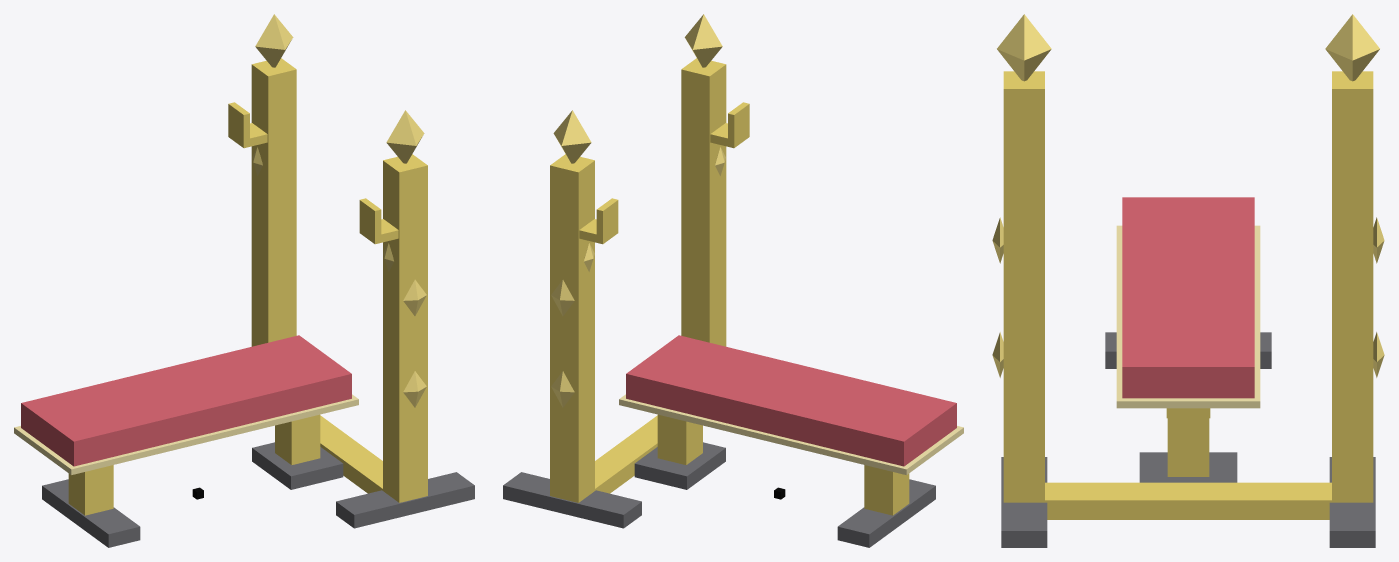
Rendered from Gold_Bench.fbx.
3 views of the same model, side by side, from view 1: azimuth 30°, elevation 25°; view 2: azimuth 150°, elevation 25°; view 3: azimuth 270°, elevation 25° (orthographic). The views are drawn at different scales.
Visible parts, largest first — view 1: Gold_Frame, Gold_Pad, Gold_Feet, Gold_Gems, Gold_Trim; view 2: Gold_Frame, Gold_Pad, Gold_Feet, Gold_Gems, Gold_Trim; view 3: Gold_Frame, Gold_Pad, Gold_Feet, Gold_Gems, Gold_Trim.
Part boxes in pixels (box(x1,y1,x2,y2)): Gold_Frame: box(68, 58, 427, 515); Gold_Pad: box(21, 335, 351, 466); Gold_Feet: box(42, 442, 474, 547); Gold_Gems: box(252, 14, 426, 407); Gold_Trim: box(14, 394, 358, 474); Gold_Frame: box(550, 58, 909, 515); Gold_Pad: box(626, 335, 956, 466); Gold_Feet: box(503, 442, 935, 547); Gold_Gems: box(551, 14, 725, 407); Gold_Trim: box(619, 394, 963, 474); Gold_Frame: box(1003, 71, 1373, 519); Gold_Pad: box(1122, 197, 1254, 398); Gold_Feet: box(1001, 332, 1375, 547); Gold_Gems: box(992, 14, 1384, 377); Gold_Trim: box(1116, 225, 1260, 408).
Size of the model in its own units: 5.04 by 5.4 by 3.82.
